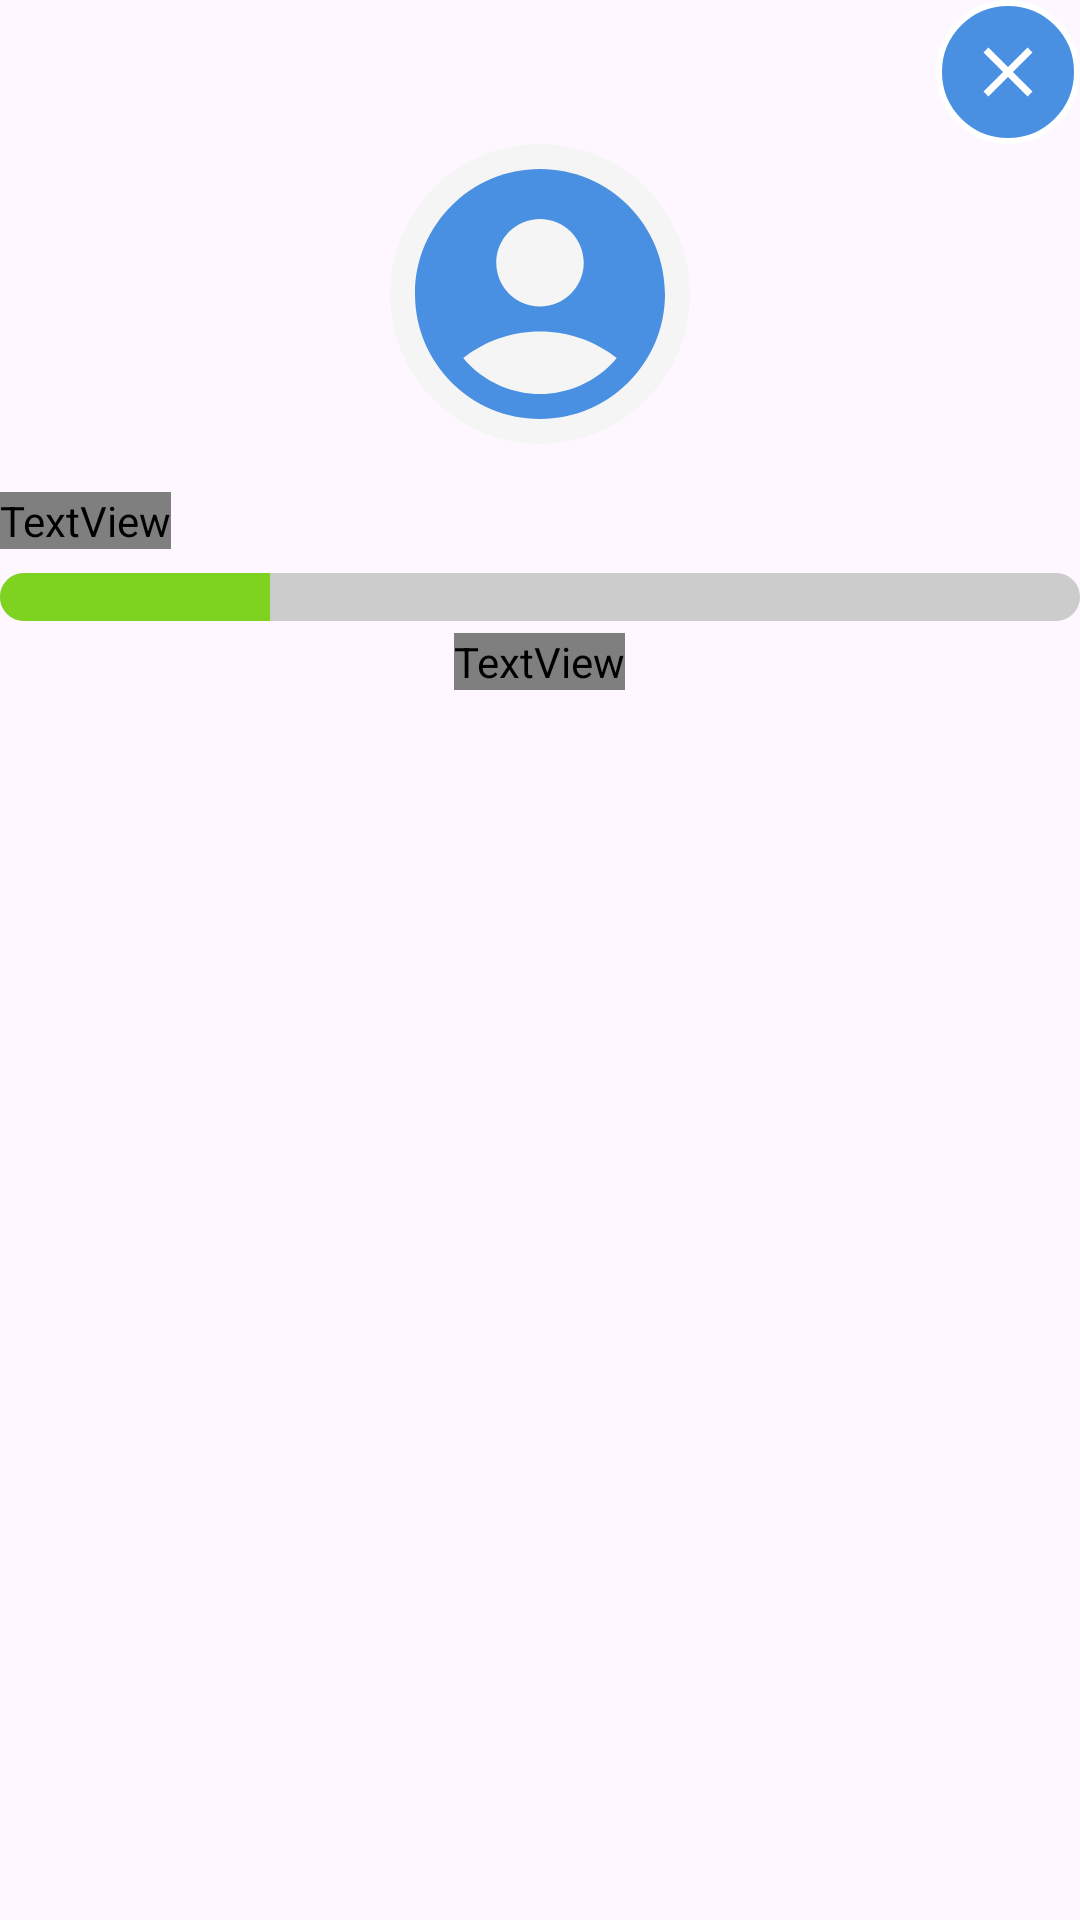

Locate icon controls on the screen. Image size 1080px×1920px, boxes as (left=x1, top=y1, right=x2, bottom=y2).
close: (left=942, top=6, right=1074, bottom=138)
